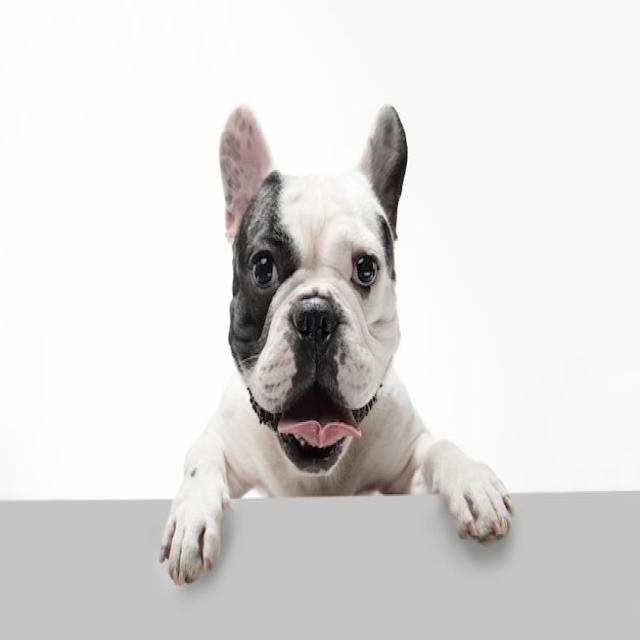Dog: (160, 102, 514, 585)
